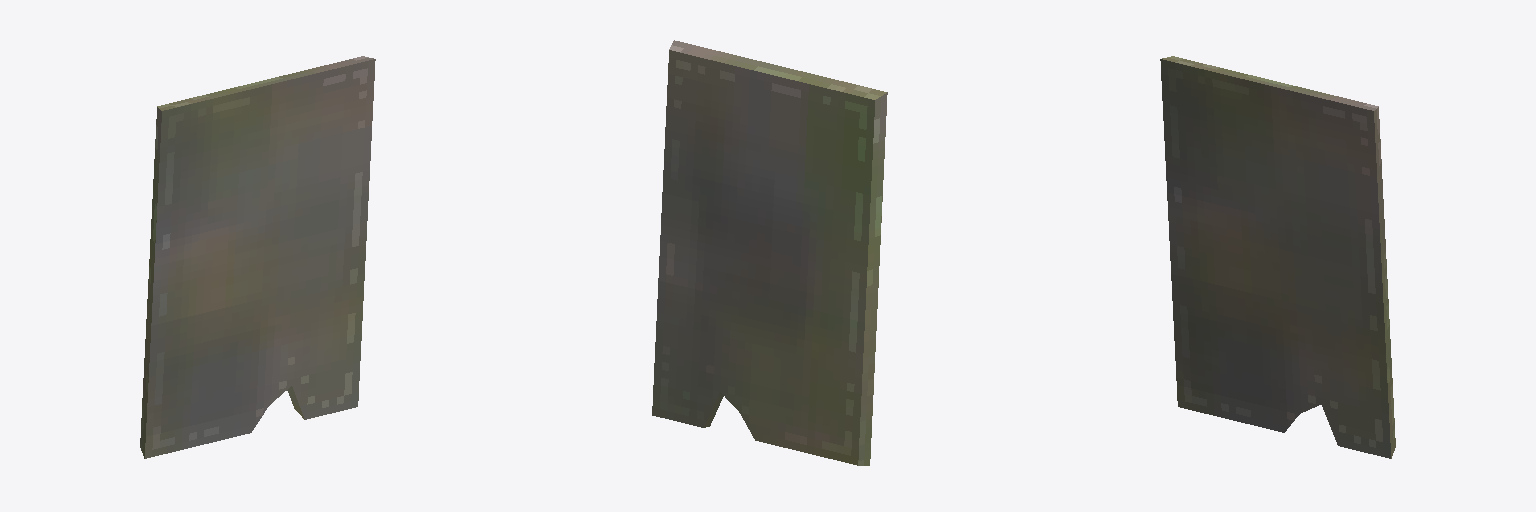
3 renders of one model, left to right at view 1: azimuth 30°, elevation 25°; view 2: azimuth 150°, elevation 25°; view 3: azimuth 330°, elevation 25°, orthographic.
Parts seen in each view (by area): view 1: cuboid; view 2: cuboid; view 3: cuboid.
Part boxes in pixels (bbox=[...]): cuboid: bbox=[140, 56, 375, 458]; cuboid: bbox=[652, 40, 887, 465]; cuboid: bbox=[1160, 56, 1395, 458].
Size of the model in its own units: 1.81 by 2.93 by 0.3778.
Materials: 1 (1 with a texture image).